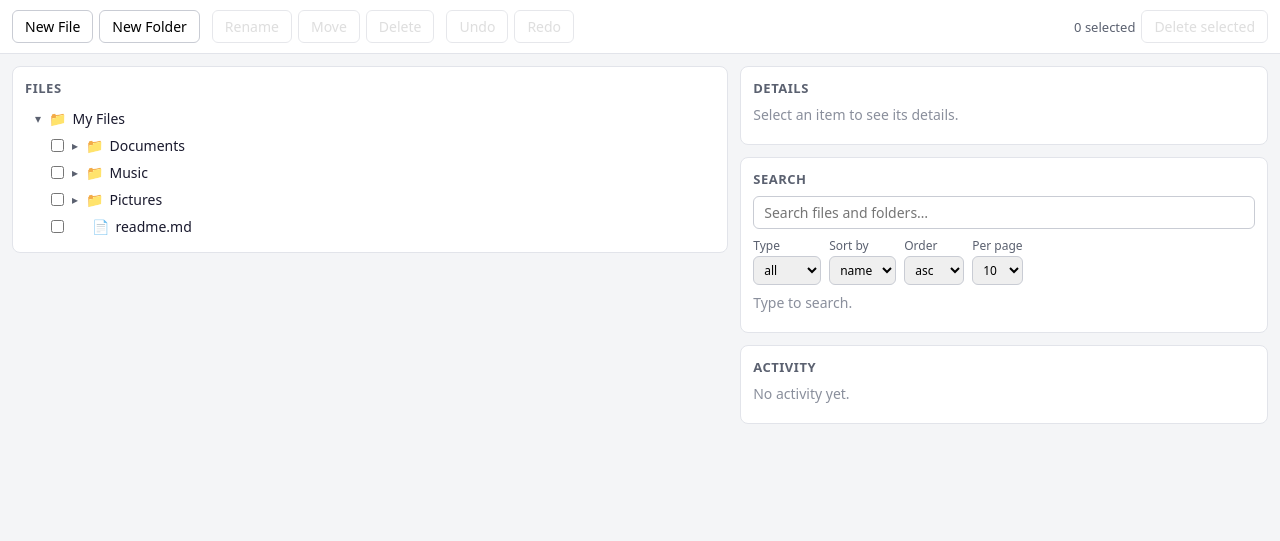
Test: selection consistency › clears selection after deleting the selected item
The image size is (1280, 541).
Step 1. Click the text "readme.md" → (154, 226), box top-left (116, 217), bottom-right (192, 236)
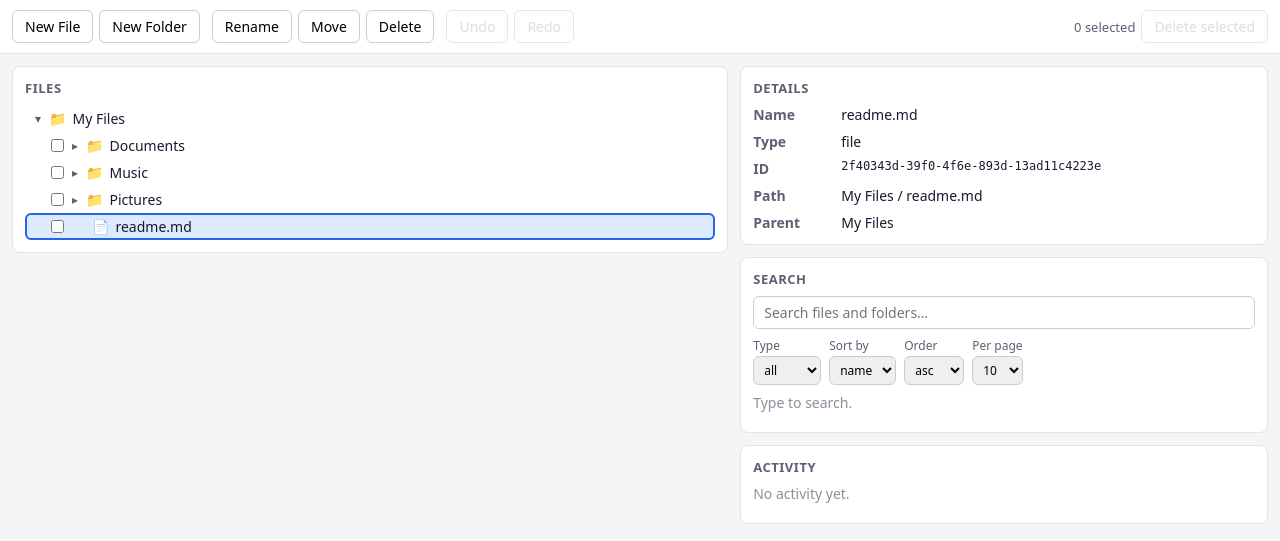
Expected: the text with test id "details-name" reads "readme.md", top-left (841, 105), bottom-right (918, 124)
Step 2. Click the button with test id "delete" → (400, 26), box top-left (366, 10), bottom-right (434, 43)
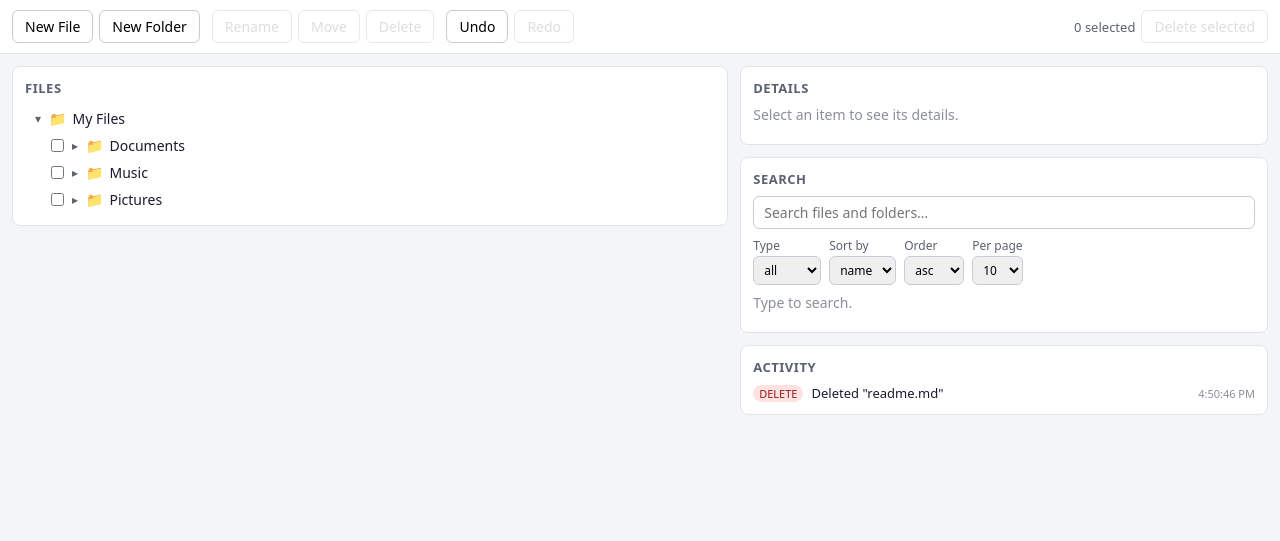
Expected: the text "Select an item to see its details." is shown, top-left (753, 105), bottom-right (959, 124)
